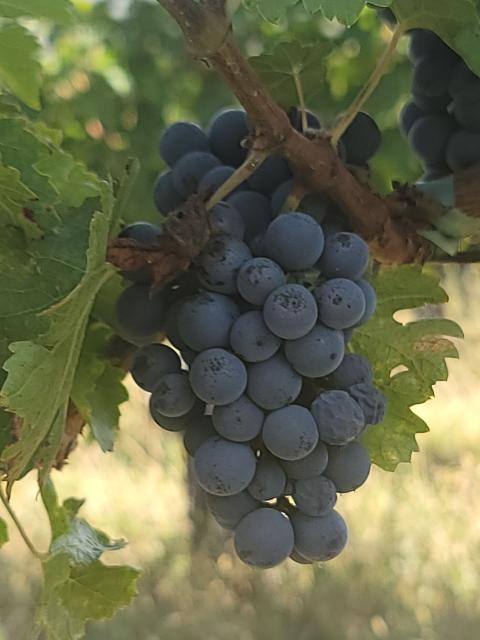grapes: (116, 109, 388, 568)
